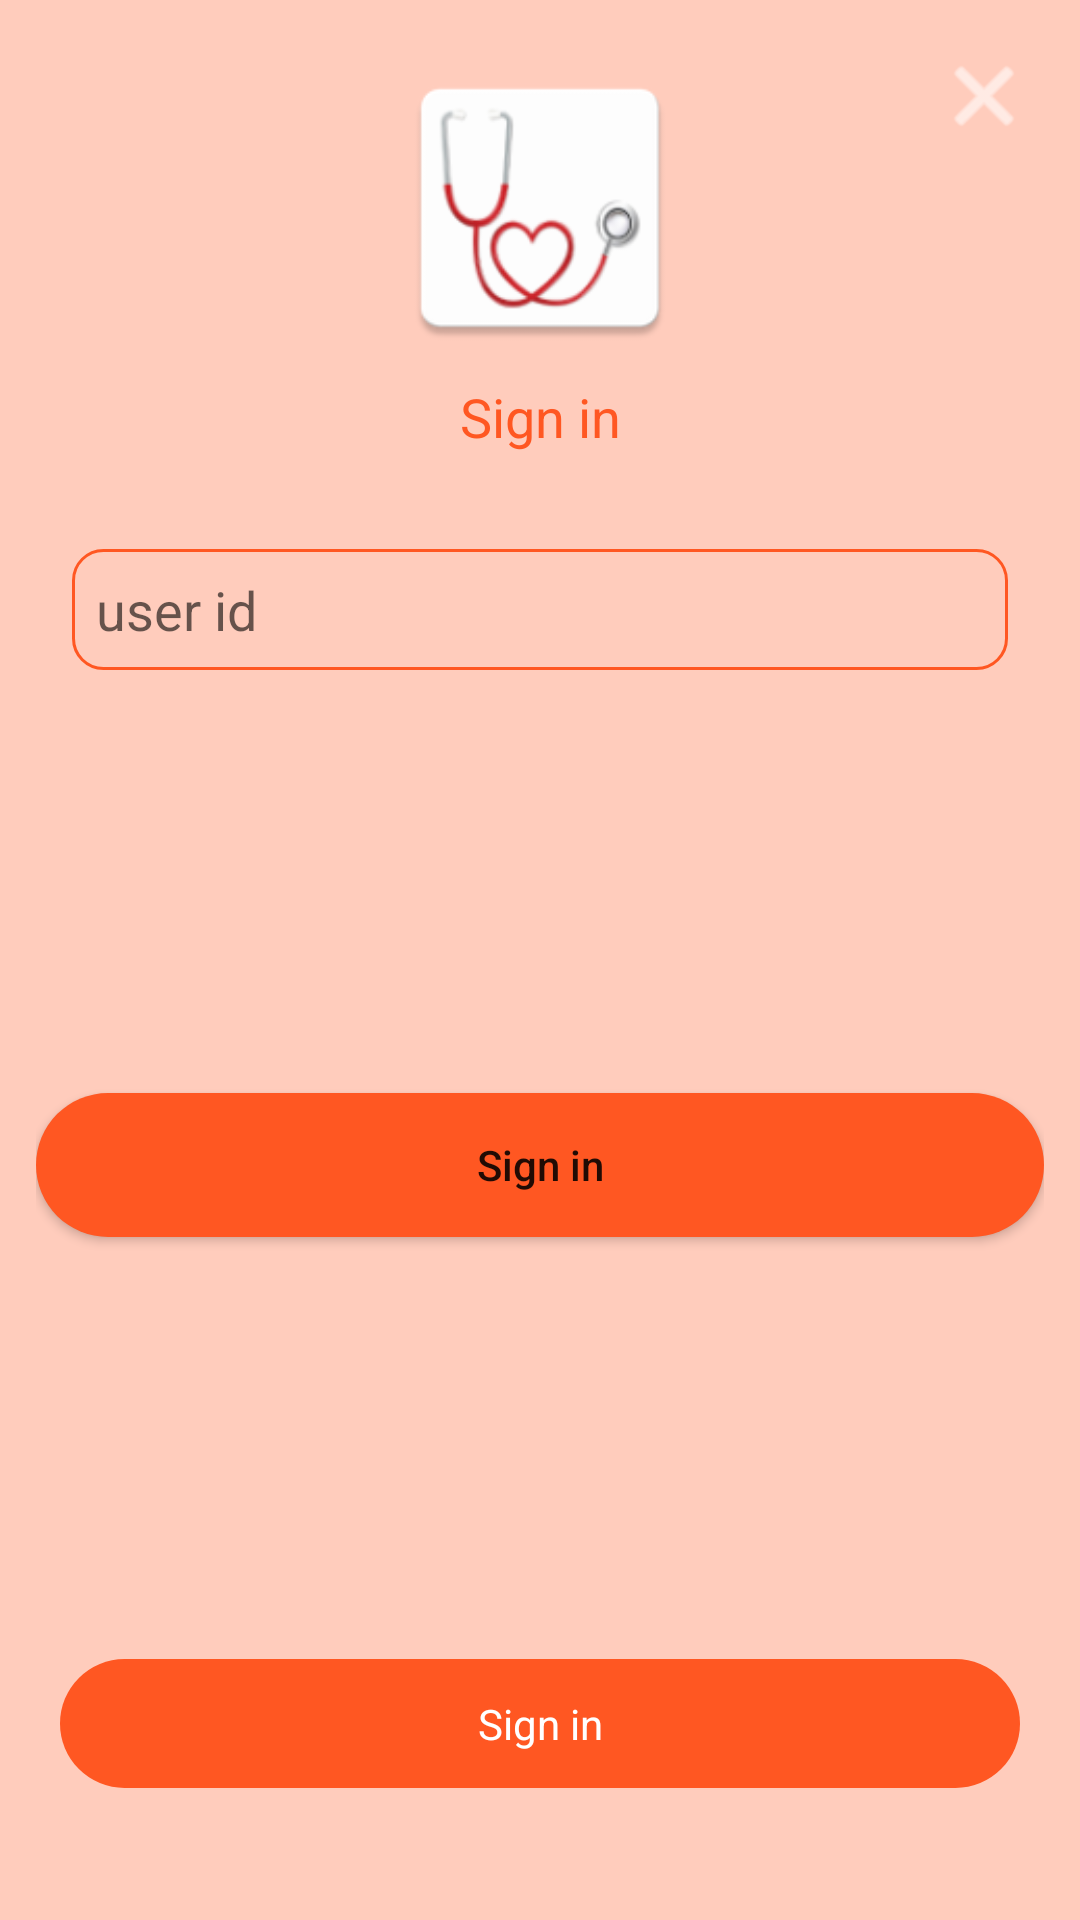

Locate icon controls on the screen. Image size 1080w x 1920h, boxes as {"left": x1, "top": y1, "right": x2, "bottom": y2}.
close clear cancel: {"left": 956, "top": 68, "right": 1012, "bottom": 124}
